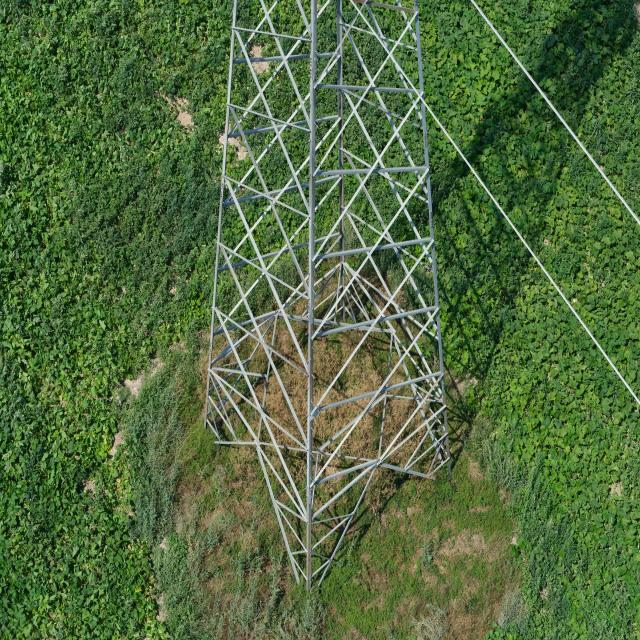direk: (198, 2, 456, 590)
